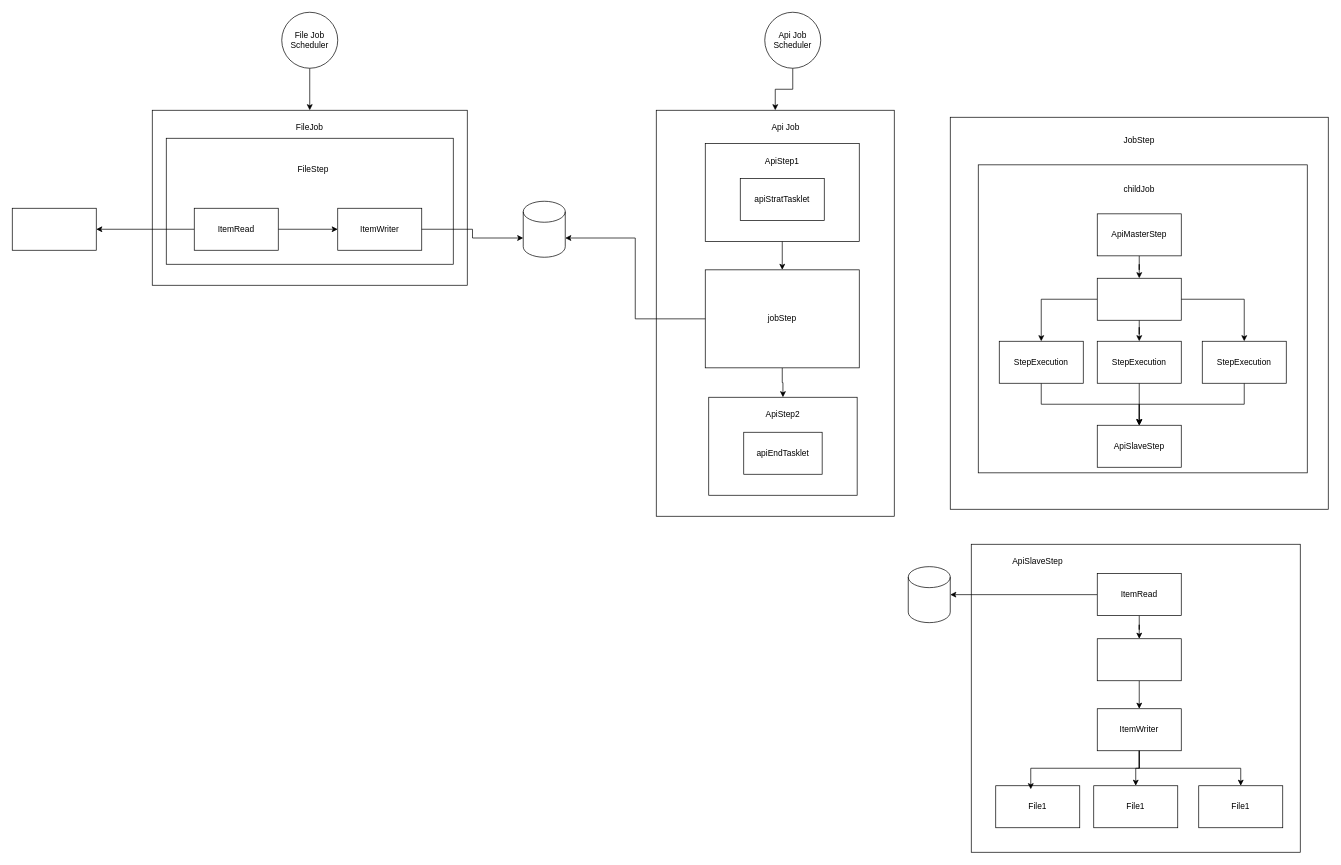
This 1341x865 diagram has some shape labels left out. Each missing label, with the centre of its shape:
API Server: point 929,594
DB: point 544,229
Files: point 54,229
ItemProcessor: point 1139,659
Partitioner: point 1139,299
